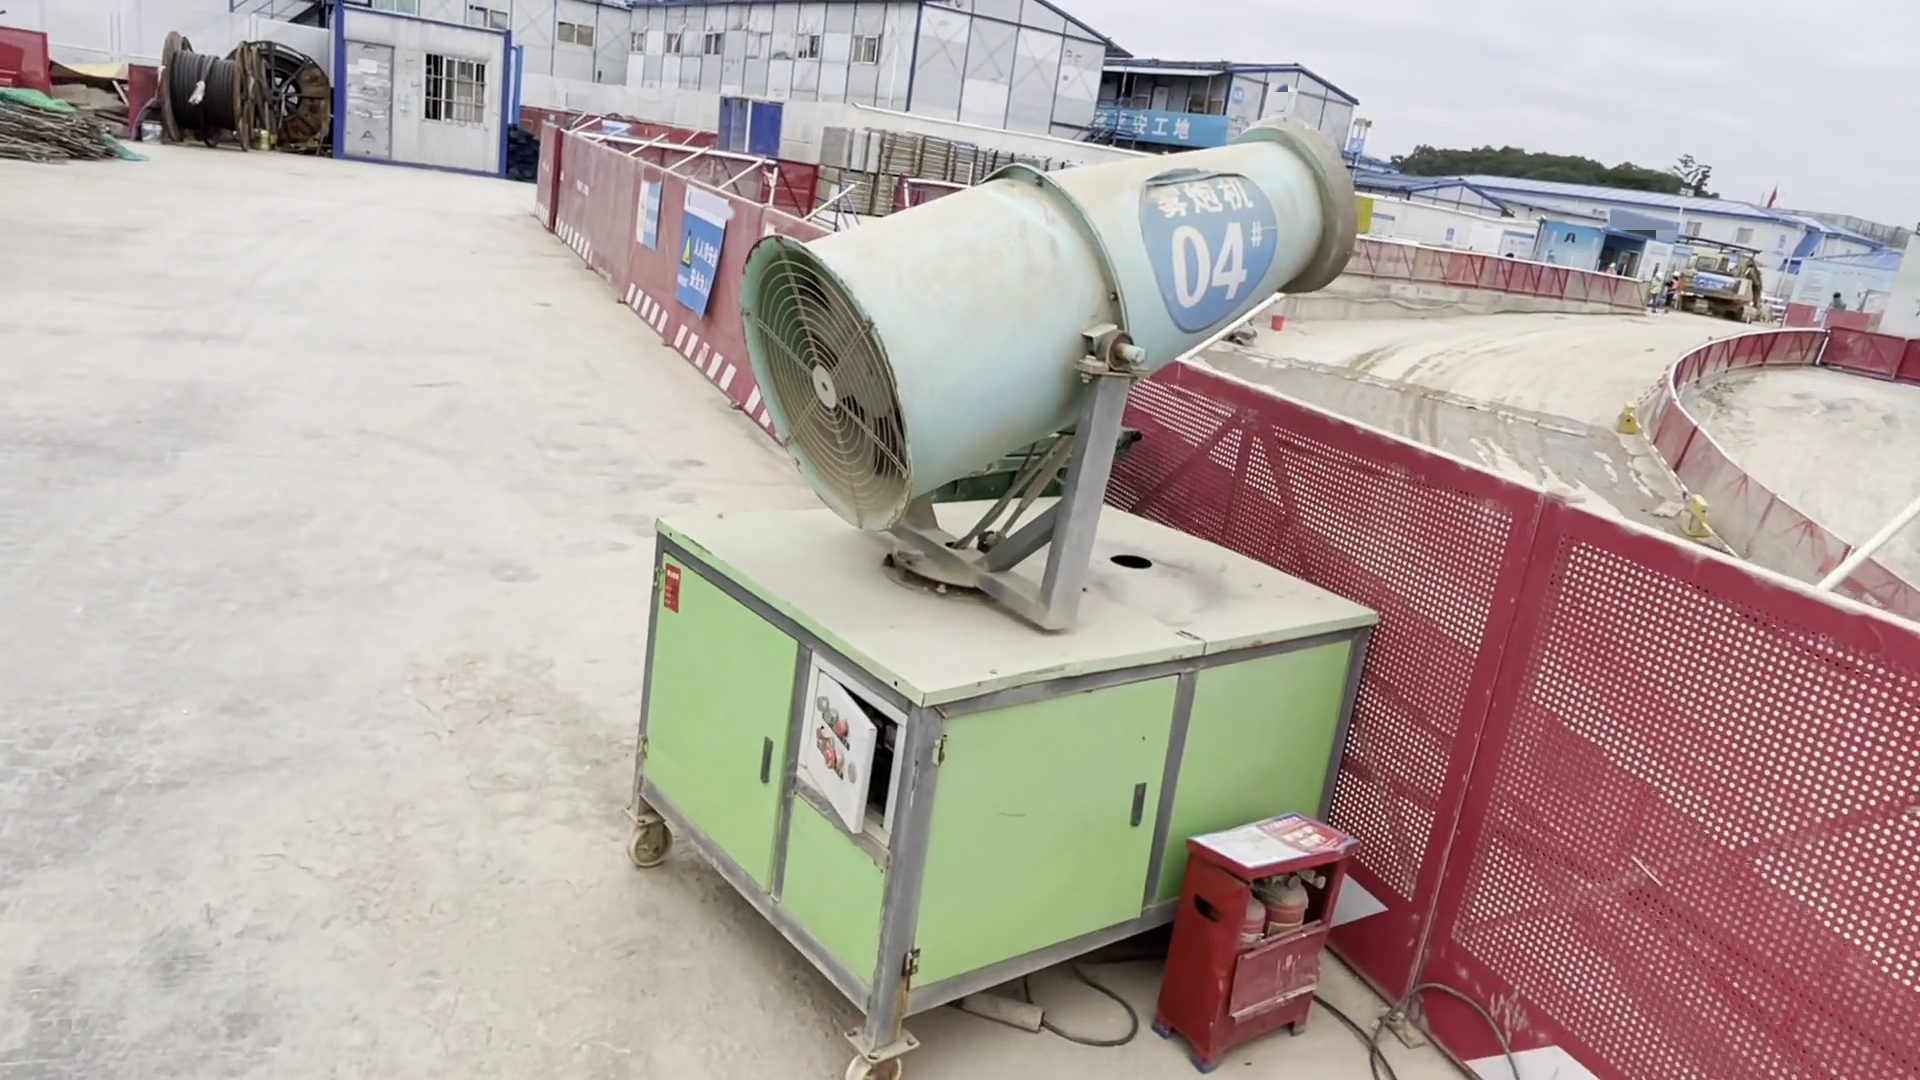fence: (1416, 389, 1920, 1077), (1105, 368, 1575, 997), (538, 115, 738, 404), (1497, 256, 1638, 309), (1342, 243, 1487, 291), (1713, 326, 1833, 378)
slogan: (667, 233, 724, 305)
